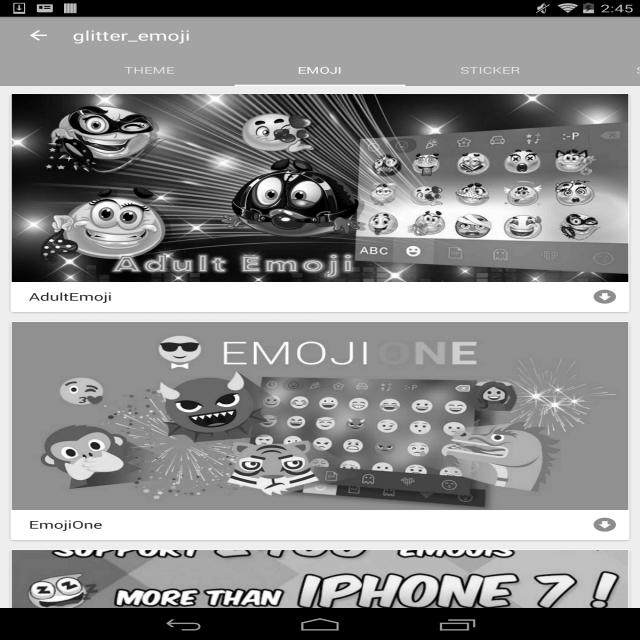ImageButton: (9, 17, 68, 54), (582, 282, 628, 311), (582, 510, 628, 539)
ImageView: (12, 94, 628, 282), (12, 322, 628, 510), (12, 550, 628, 640)
TextView: (12, 289, 581, 304), (12, 517, 581, 532), (72, 26, 190, 44), (460, 64, 521, 76), (124, 64, 174, 76), (297, 64, 342, 76), (636, 64, 640, 76)
